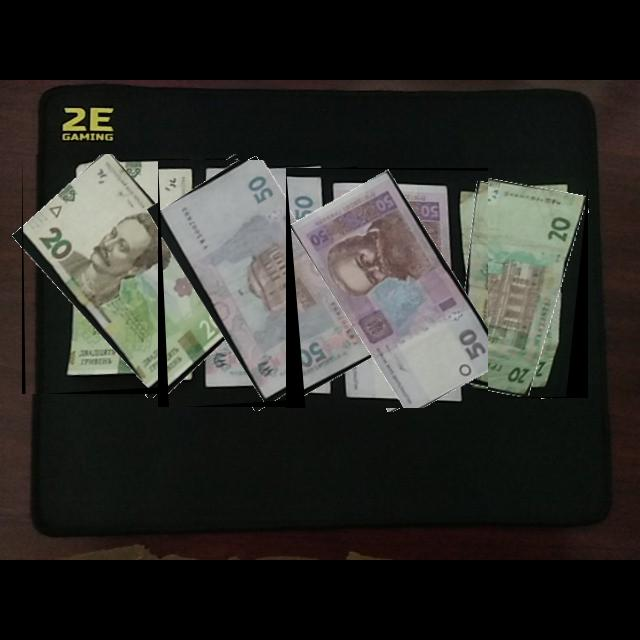20uah: (24, 154, 239, 389), (438, 178, 588, 399)
50uah: (160, 160, 359, 403), (290, 170, 489, 409)
